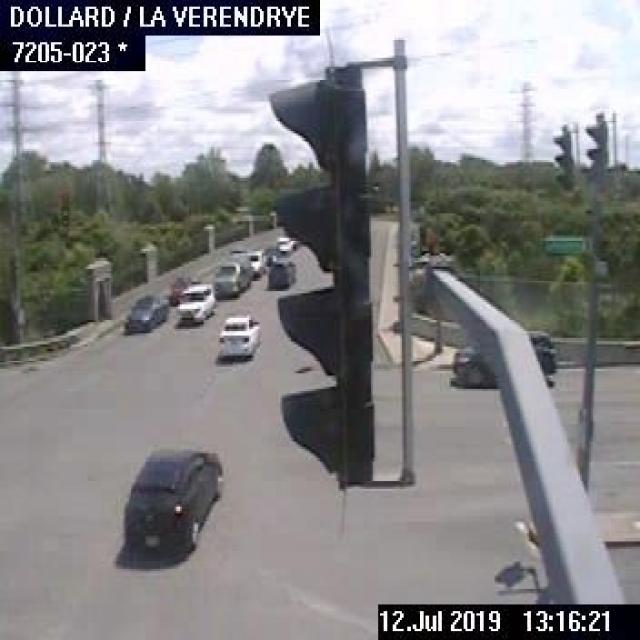vehicle: (122, 442, 222, 547), (451, 328, 560, 387), (172, 283, 215, 327), (215, 311, 258, 353), (212, 258, 253, 298), (124, 289, 162, 331), (265, 258, 298, 292), (242, 248, 267, 278), (274, 231, 293, 256)
